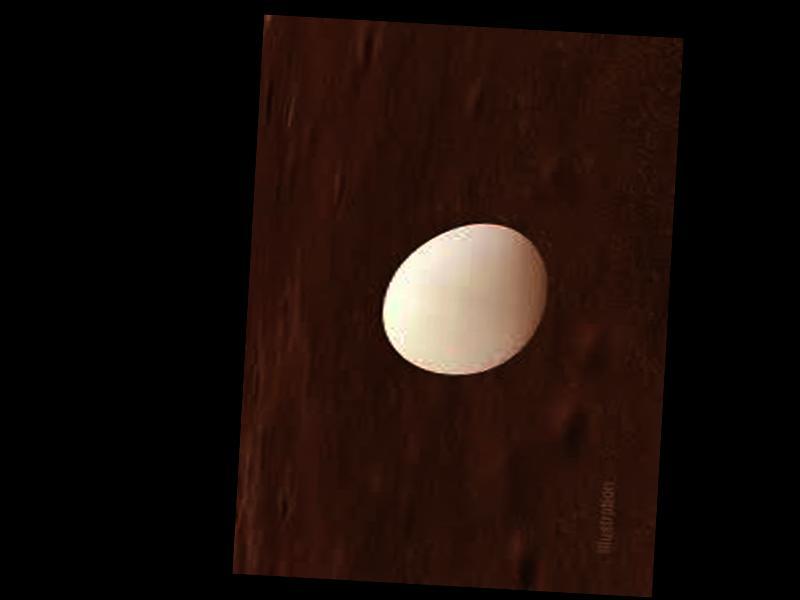Eggs: (379, 216, 550, 380)
